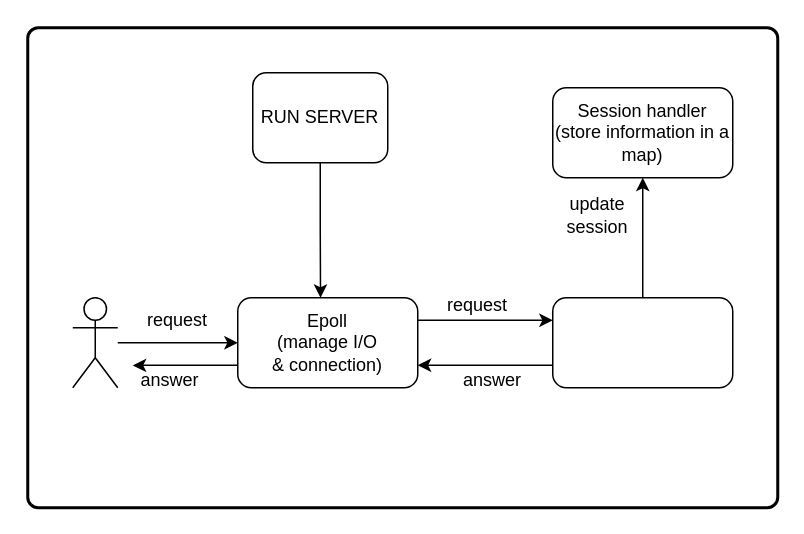
Some shapes in this 804 by 534 pixel diagram are drawn without their labels. Here are the shapes that lost their labels. From the top down, the box of each, then its label:
(71, 296, 118, 388): Actor
(551, 296, 733, 388): Request handler (answer the request)
